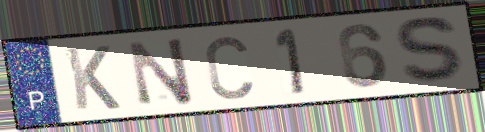1: (272, 26, 309, 97)
6: (335, 22, 393, 90)
C: (202, 33, 256, 102)
K: (62, 44, 124, 113)
N: (125, 34, 197, 108)
S: (392, 14, 473, 87)
